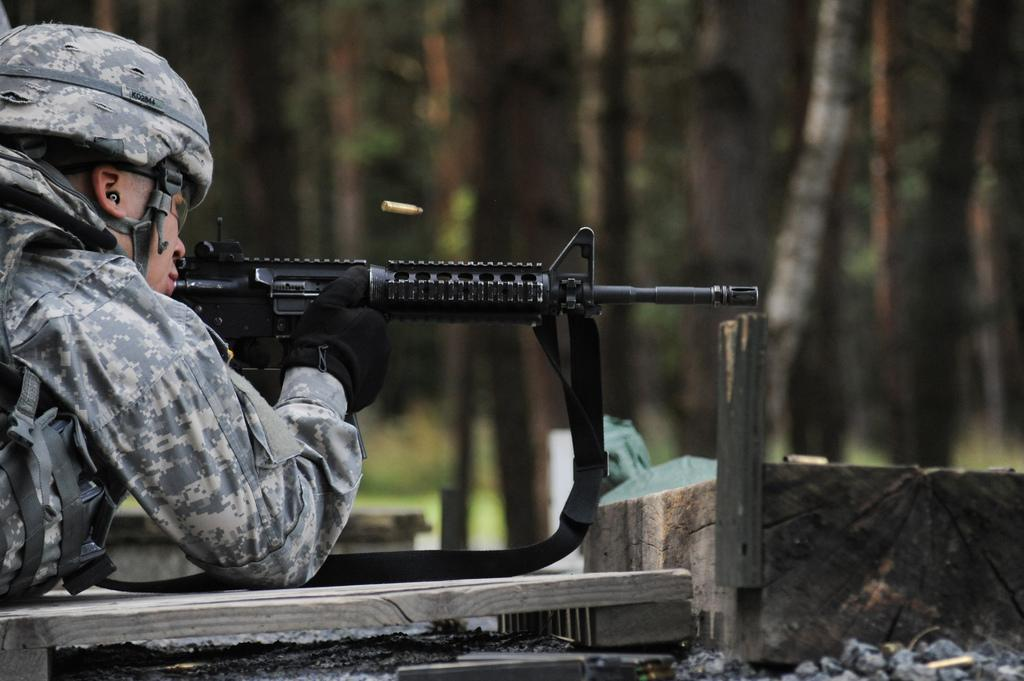Rifle: (164, 216, 755, 403)
